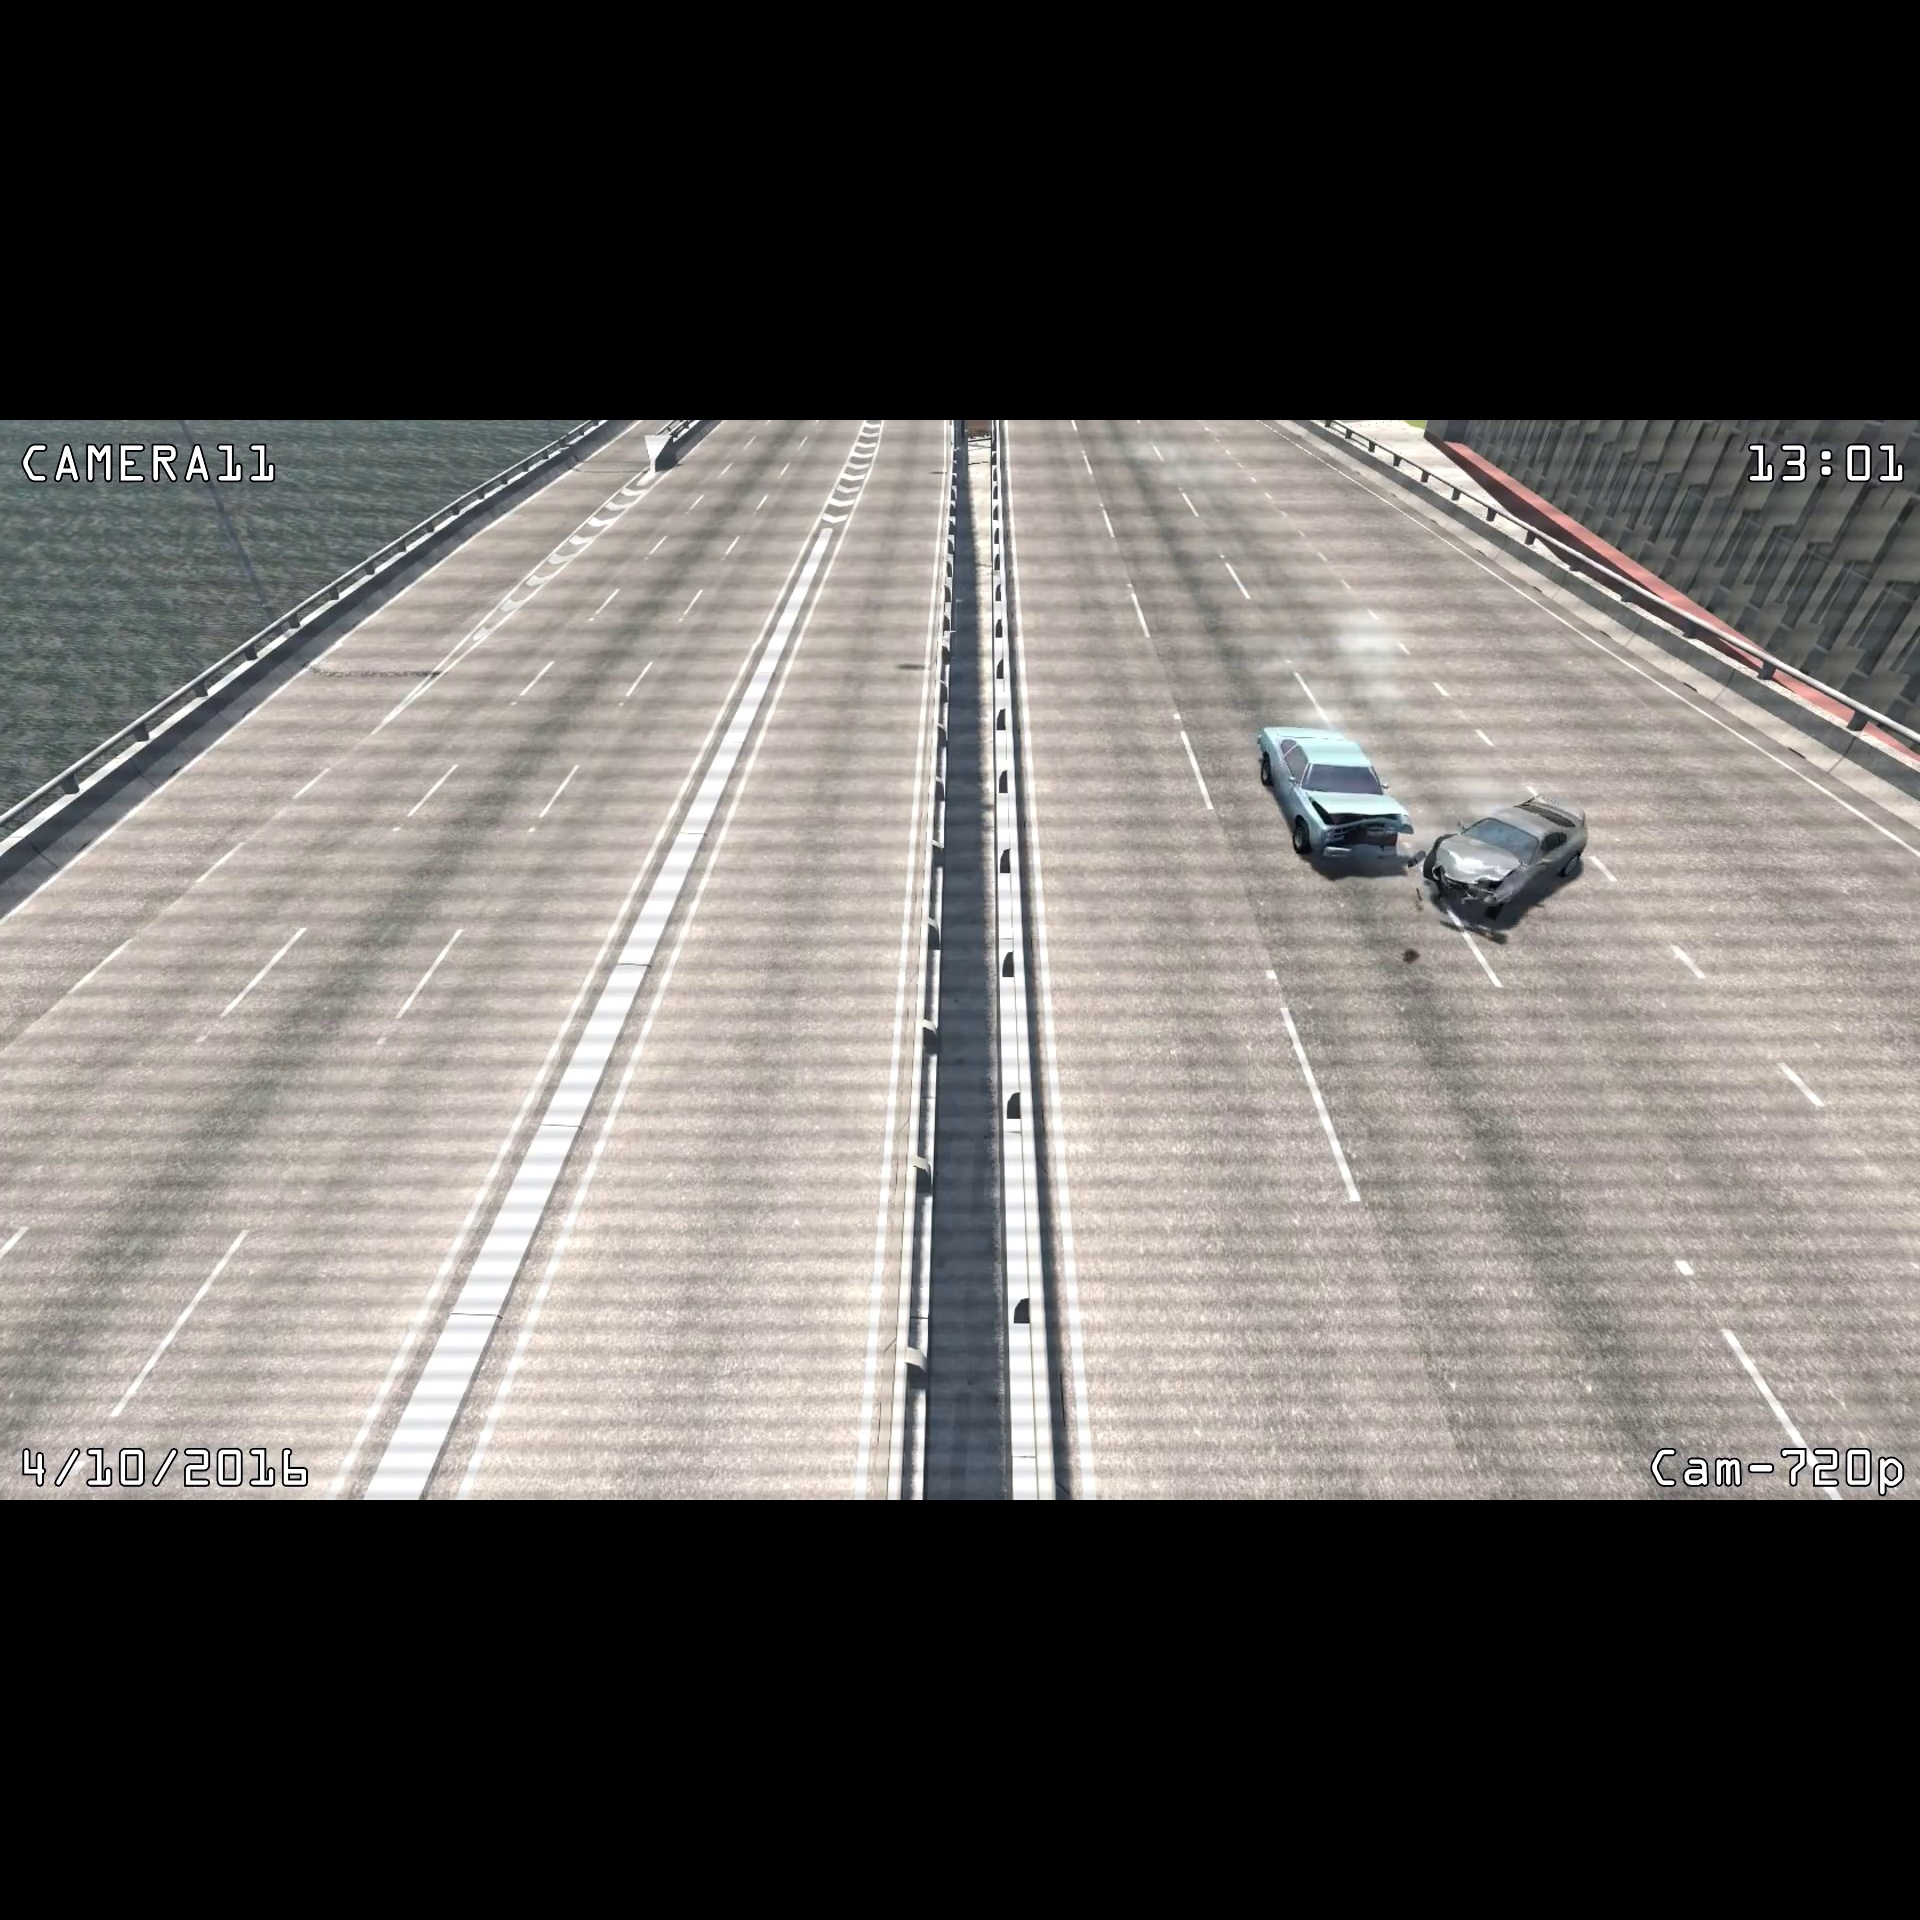vehicle: (1247, 714, 1414, 877), (1417, 782, 1595, 930)
